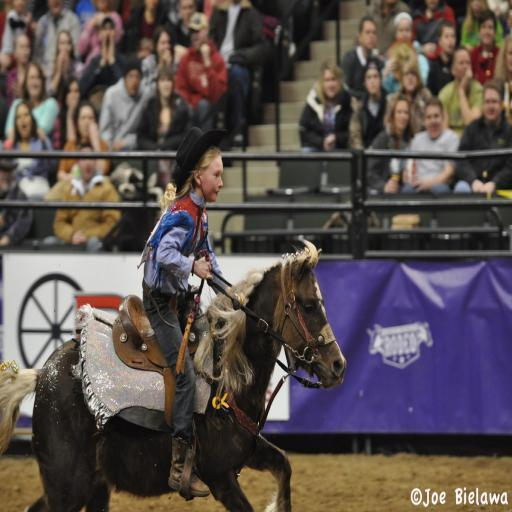horse: (0, 236, 348, 512)
